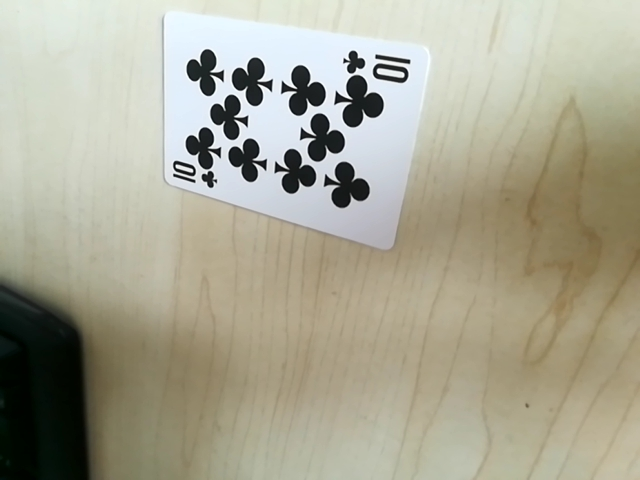mh 10: (341, 47, 416, 82), (168, 163, 220, 192)
